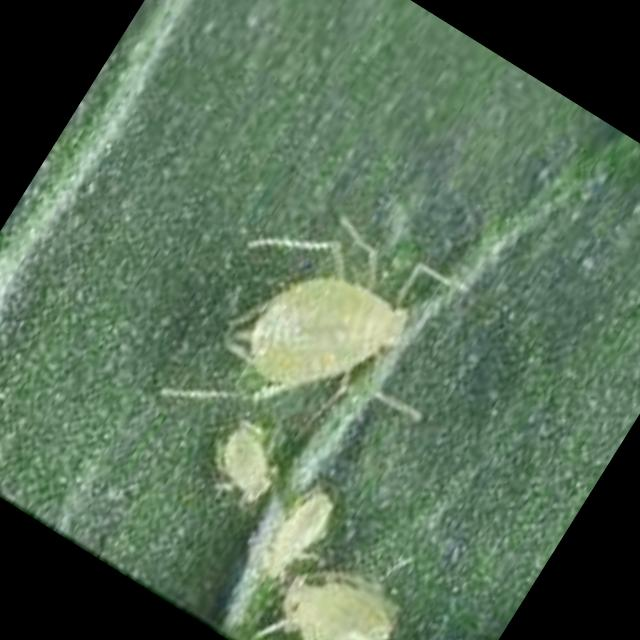Green peach aphid: (142, 118, 521, 490), (232, 523, 424, 640), (172, 394, 316, 540), (228, 457, 364, 602)
